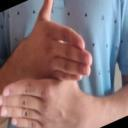hand: (12, 0, 93, 81), (0, 78, 98, 128)
